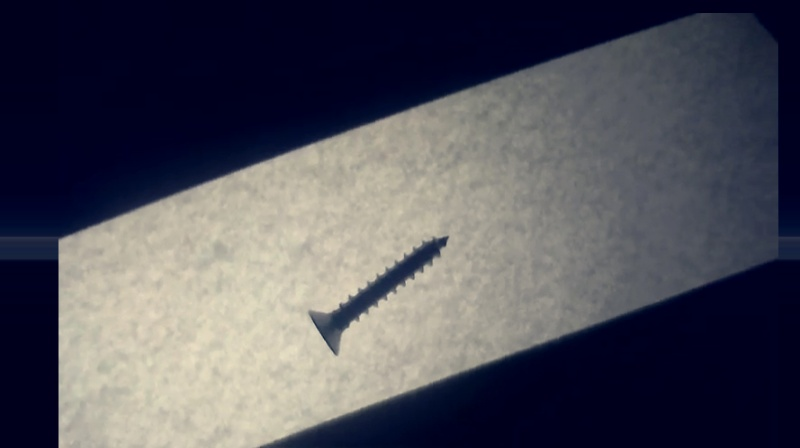S001: (306, 231, 451, 357)
